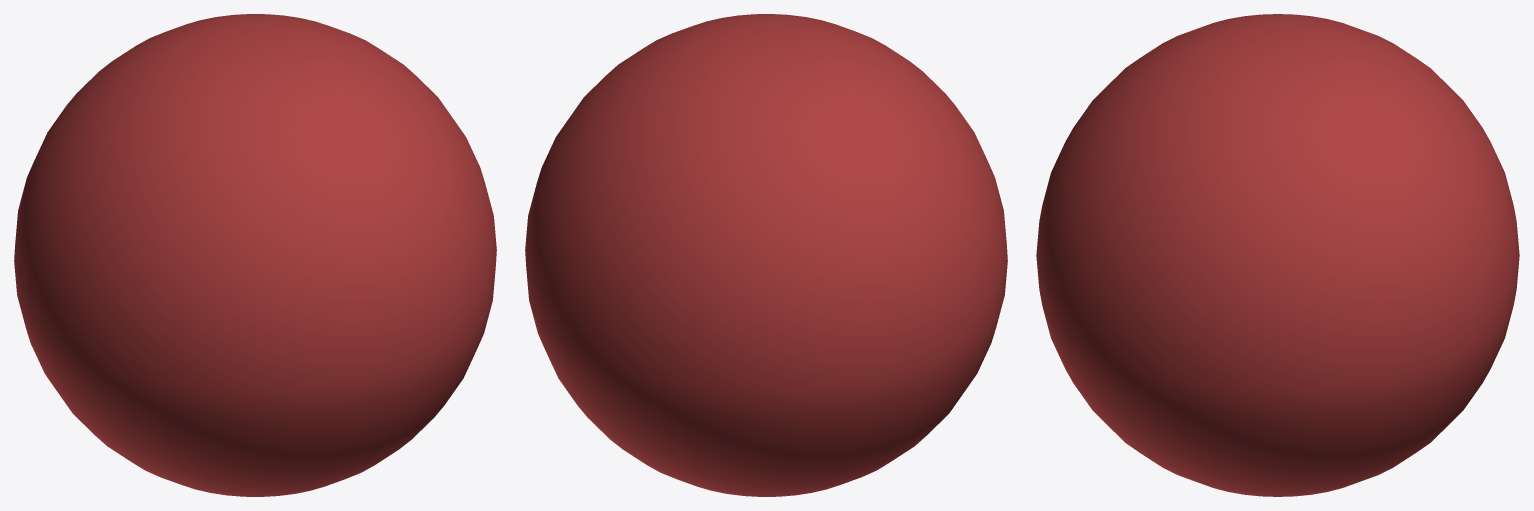
Rendered from Marble_Type04_Diamond_001.fbx.
3 renders of one model, left to right at view 1: azimuth 30°, elevation 25°; view 2: azimuth 150°, elevation 25°; view 3: azimuth 270°, elevation 25°, orthographic.
Parts seen in each view (by area): view 1: Marble_Type04_EXT_001; view 2: Marble_Type04_EXT_001; view 3: Marble_Type04_EXT_001.
Boxes of the visible parts, box(x1,y1,x2,y2) form: Marble_Type04_EXT_001: box(14, 14, 496, 496); Marble_Type04_EXT_001: box(525, 14, 1007, 496); Marble_Type04_EXT_001: box(1036, 14, 1519, 496).
Bounding box in the file's own units: 100 × 100 × 100.
